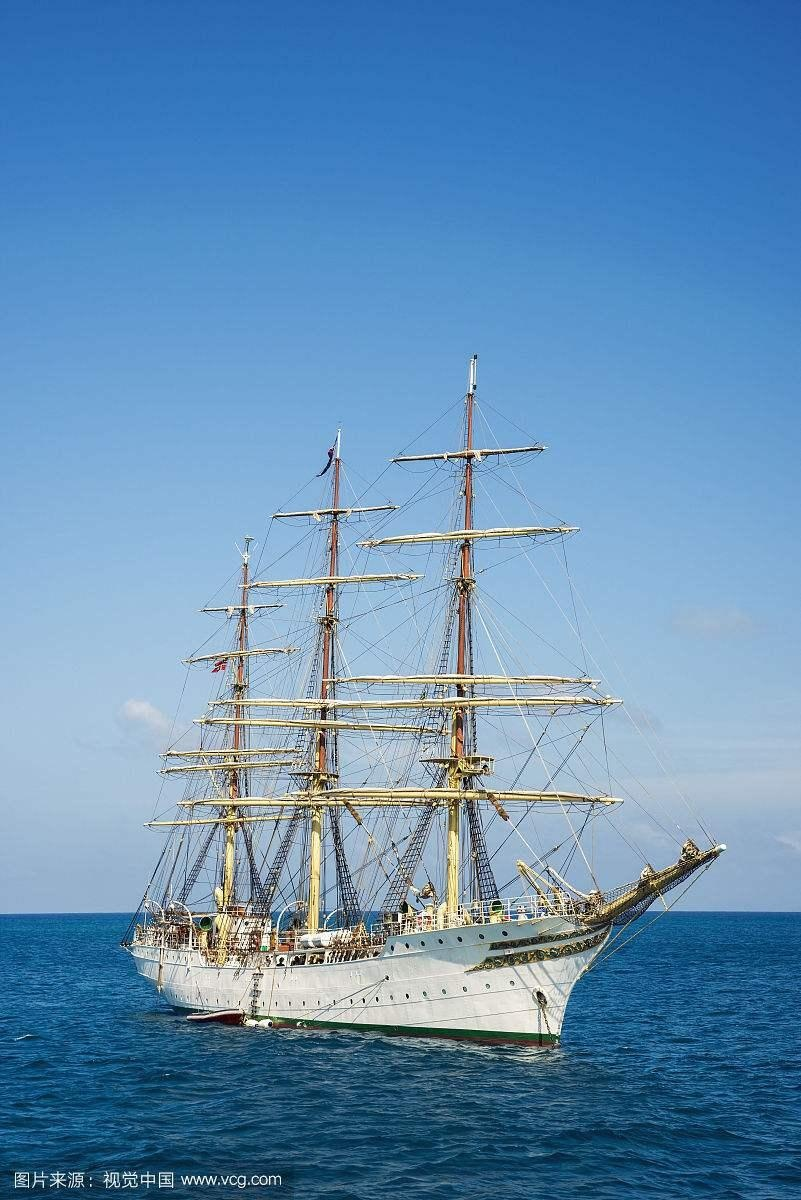fanchuan: (111, 346, 733, 1052)
